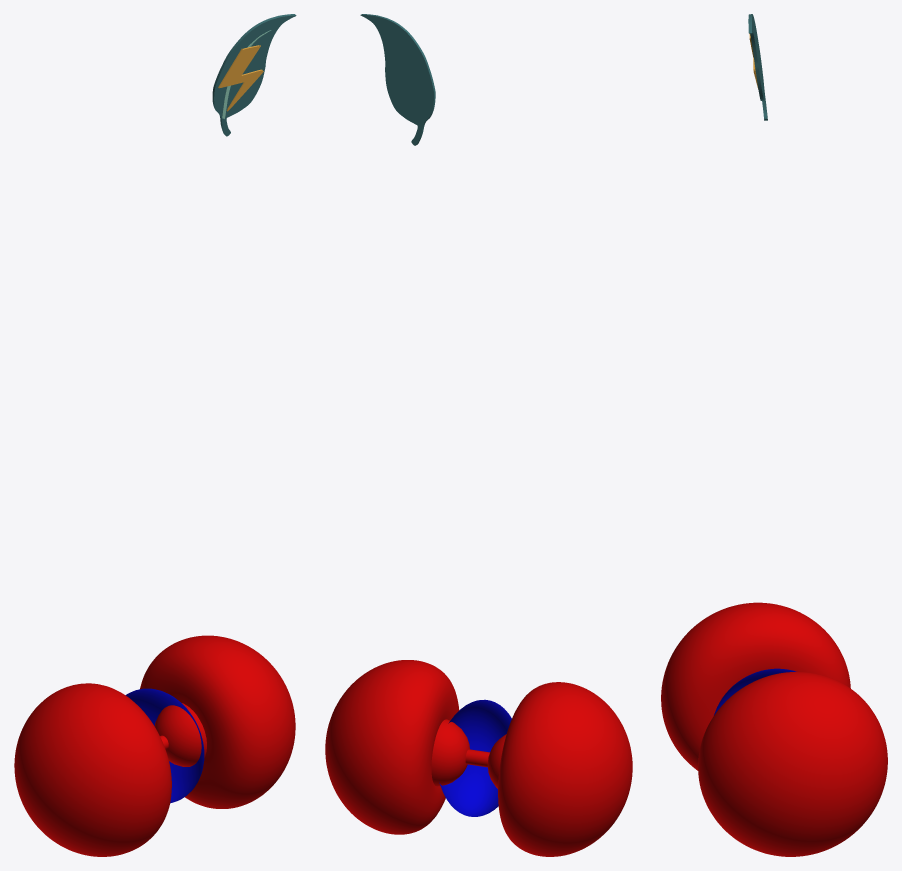
Rendered from o2_sim_en.glb.
3 views of the same model, side by side, from view 1: azimuth 30°, elevation 25°; view 2: azimuth 150°, elevation 25°; view 3: azimuth 270°, elevation 25° (orthographic). The views are drawn at different scales.
Visible parts, largest first — view 1: o2_sim_en, path182, path186; view 2: o2_sim_en, path182; view 3: o2_sim_en, path182.
Boxes of the visible parts, x1,y1,x2,y2 form: o2_sim_en: (14,635,295,856); path182: (212,14,296,136); path186: (218,45,263,111); o2_sim_en: (325,660,632,856); path182: (360,14,435,145); o2_sim_en: (661,602,887,856); path182: (748,14,767,120).
Bounding box in the file's own units: 2.04 × 5.72 × 1.38.
